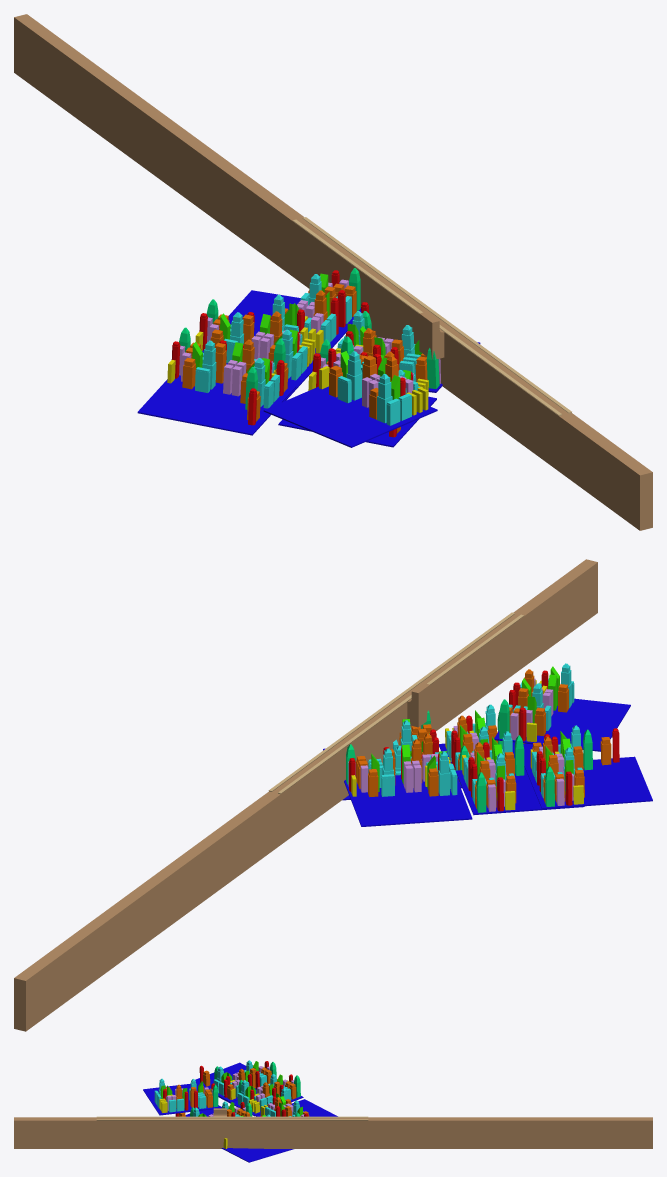
File: BlockingV1.fbx
3 views of the same model, one above another, from view 1: azimuth 30°, elevation 25°; view 2: azimuth 150°, elevation 25°; view 3: azimuth 270°, elevation 25° (orthographic). The views are drawn at different scales.
Visible parts, largest first — view 1: Cube.002, LargeLong.008, LargeLong.011, LargeLong.005, LargeLong.009, LargeLong.012, Rails, LargeLong.010, Rampe1; view 2: Cube.002, LargeLong.005, LargeLong.008, LargeLong.011, LargeLong.009, LargeLong.010, Rails, LargeLong.012, Rampe1; view 3: Cube.002, LargeLong.011, LargeLong.008, LargeLong.009, LargeLong.005, Rails, LargeLong.012, LargeLong.010.
Boxes of the visible parts, x1=… form: Cube.002: x1=14, y1=14, x2=652, y2=530; LargeLong.008: x1=137, y1=327, x2=296, y2=435; LargeLong.011: x1=263, y1=336, x2=437, y2=447; LargeLong.005: x1=228, y1=268, x2=361, y2=353; LargeLong.009: x1=195, y1=299, x2=315, y2=401; LargeLong.012: x1=335, y1=302, x2=480, y2=392; Rails: x1=292, y1=217, x2=571, y2=415; LargeLong.010: x1=278, y1=339, x2=436, y2=447; Rampe1: x1=419, y1=311, x2=444, y2=359; Cube.002: x1=14, y1=559, x2=597, y2=1031; LargeLong.005: x1=344, y1=739, x2=472, y2=826; LargeLong.008: x1=524, y1=725, x2=652, y2=809; LargeLong.011: x1=494, y1=663, x2=630, y2=751; LargeLong.009: x1=455, y1=731, x2=584, y2=815; LargeLong.010: x1=439, y1=704, x2=542, y2=788; Rails: x1=268, y1=612, x2=524, y2=794; LargeLong.012: x1=323, y1=710, x2=439, y2=800; Rampe1: x1=407, y1=683, x2=430, y2=727; Cube.002: x1=14, y1=1117, x2=652, y2=1148; LargeLong.011: x1=143, y1=1078, x2=219, y2=1115; LargeLong.008: x1=191, y1=1060, x2=276, y2=1102; LargeLong.009: x1=218, y1=1074, x2=303, y2=1116; LargeLong.005: x1=256, y1=1088, x2=337, y2=1116; Rails: x1=96, y1=1116, x2=368, y2=1120; LargeLong.012: x1=221, y1=1111, x2=293, y2=1162; LargeLong.010: x1=175, y1=1101, x2=252, y2=1116.
Bounding box in the file's own units: 213091 × 46515 × 656451.
